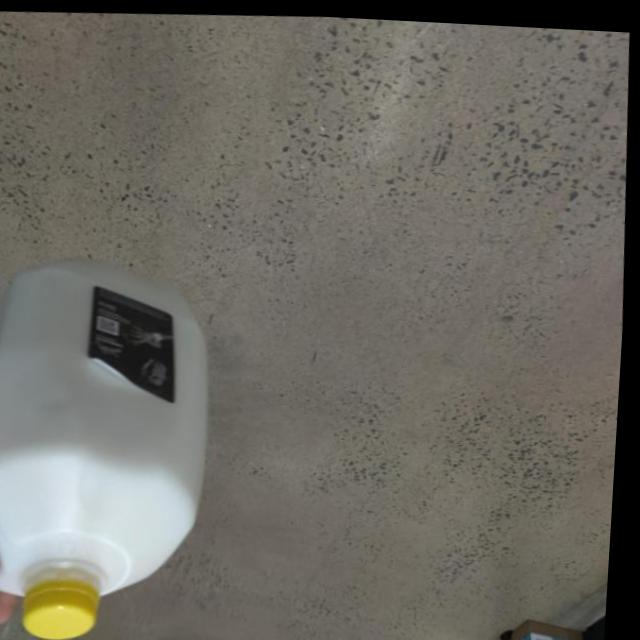Milk: (0, 254, 234, 640)
